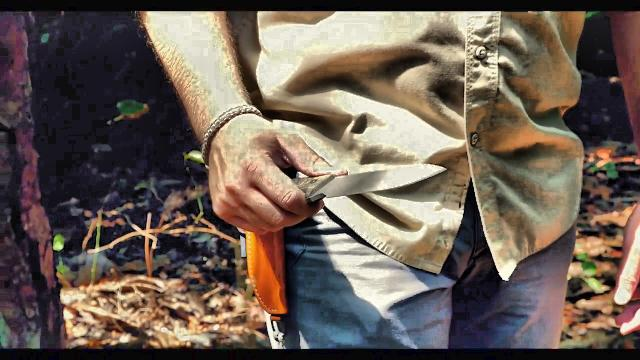knife: (228, 148, 452, 236)
